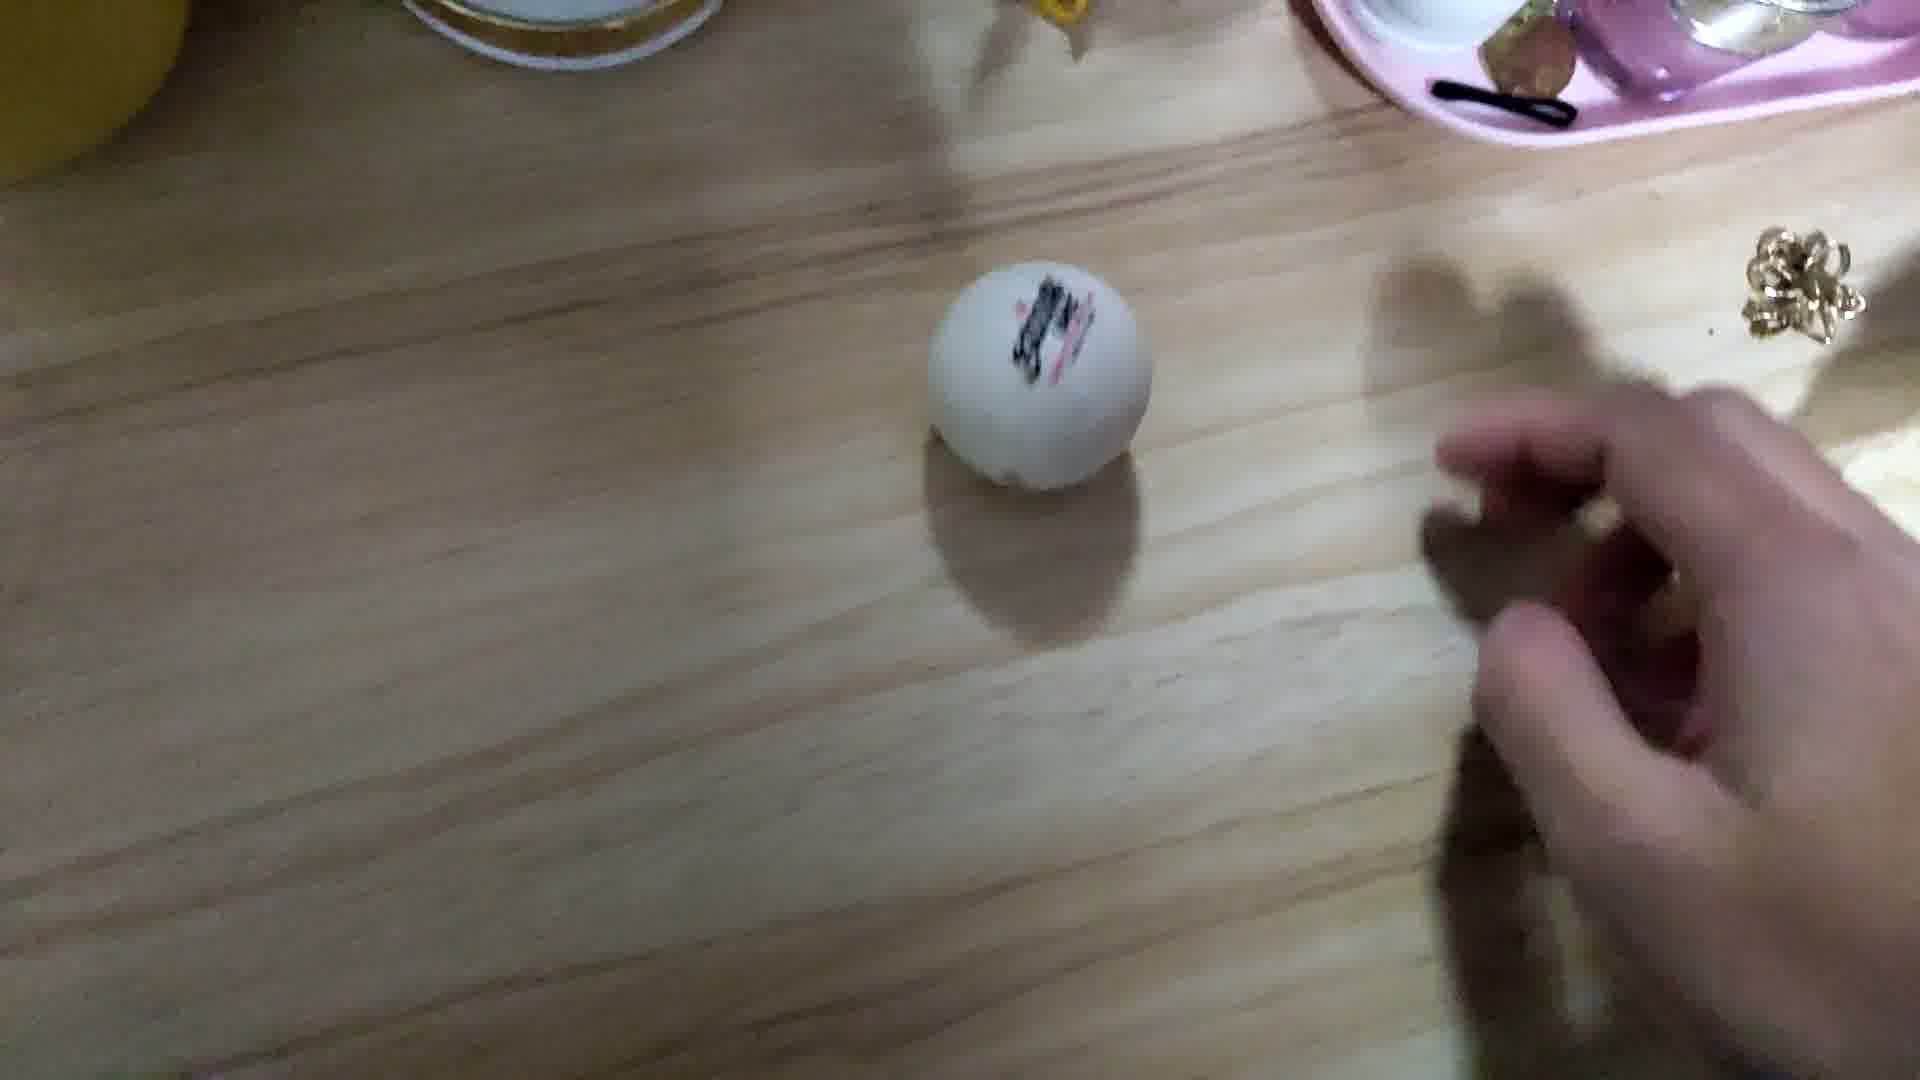Ball: (930, 261, 1159, 487)
